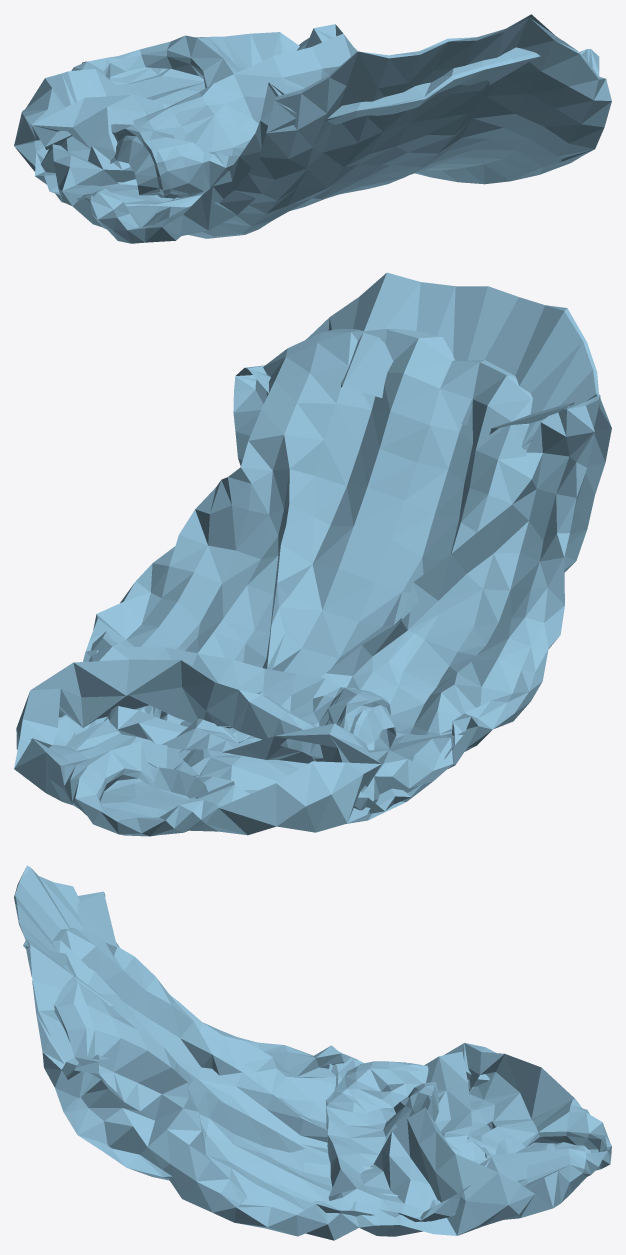
The model's file is frame_04.glb.
The picture shows the model from 3 angles, top to bottom: view 1: azimuth 30°, elevation 25°; view 2: azimuth 150°, elevation 25°; view 3: azimuth 270°, elevation 25°; orthographic projection. The views are drawn at different scales.
Visible parts, largest first — view 1: frame_04.obj; view 2: frame_04.obj; view 3: frame_04.obj.
Part boxes in pixels (box(x1,y1,x2,y2)): frame_04.obj: box(14, 14, 611, 243); frame_04.obj: box(14, 272, 611, 836); frame_04.obj: box(14, 865, 611, 1240).
Bounding box in the file's own units: 1.07 × 0.7895 × 1.6.
